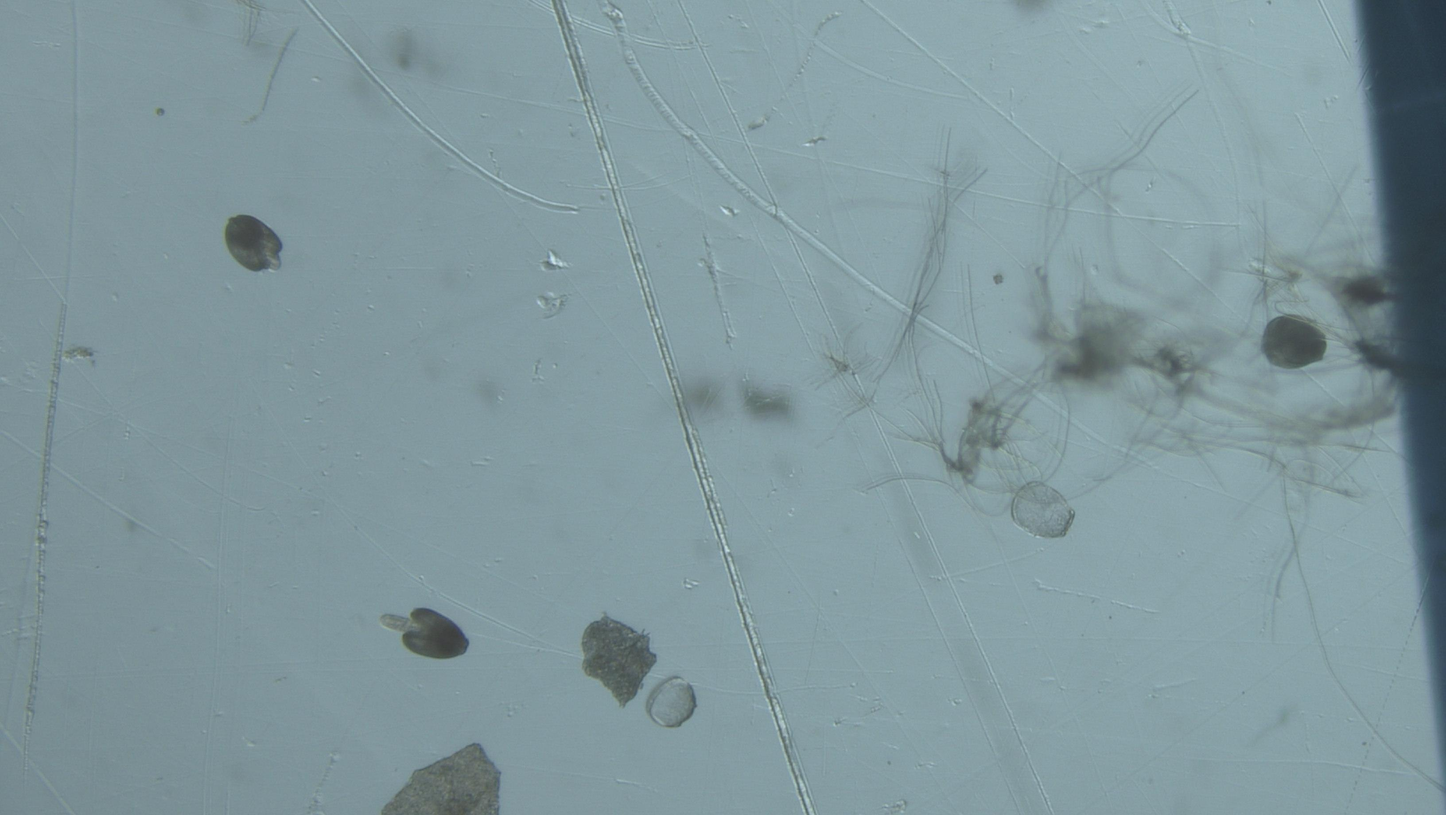dead: (1011, 482, 1074, 539), (646, 675, 697, 728)
live: (379, 609, 469, 660), (1261, 315, 1327, 369), (224, 215, 282, 272)
